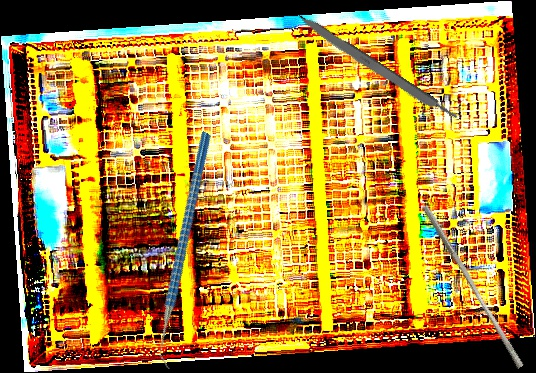Chopper: (89, 130, 285, 371)
Pusher: (415, 204, 530, 370)
Scalpel Handle: (293, 11, 461, 126)
